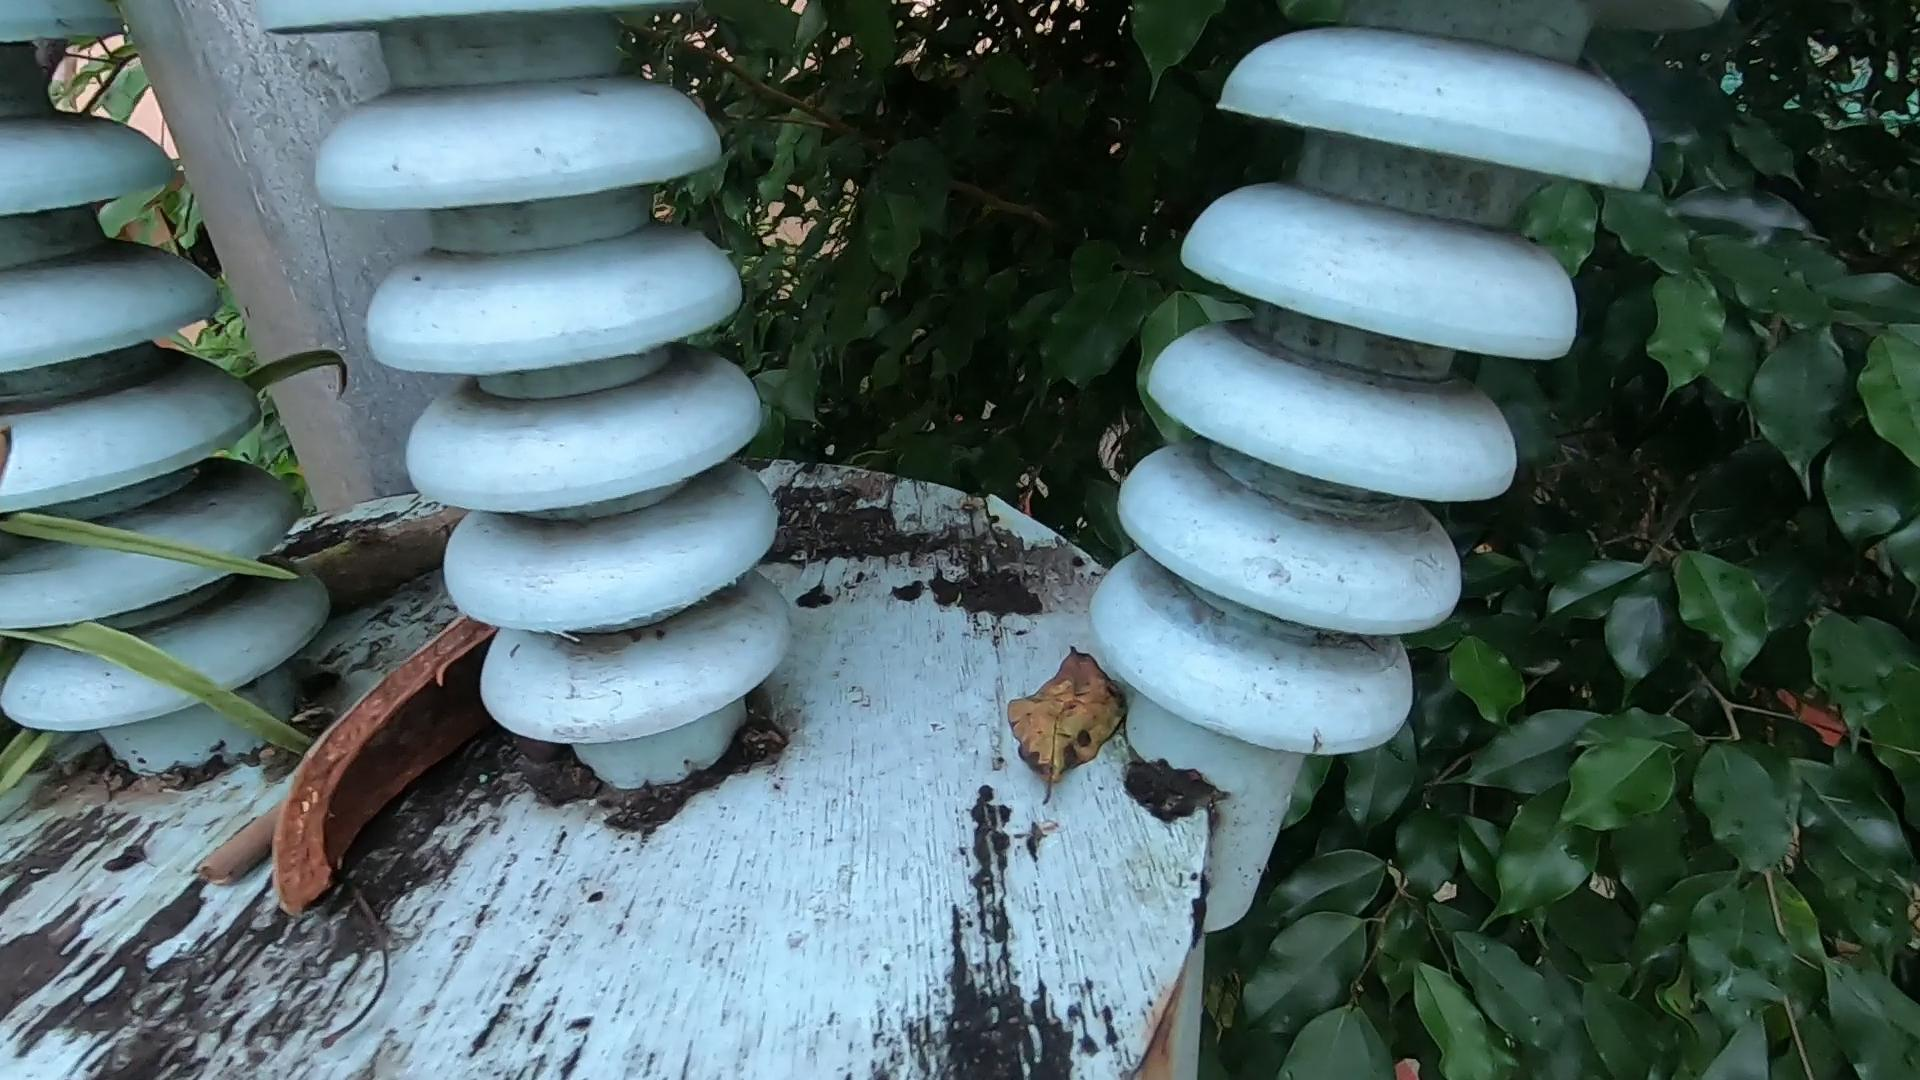branch with leaves: (260, 476, 570, 611)
leaf: (931, 582, 1224, 853)
mahogany fruit: (255, 588, 522, 959)
tree branch: (179, 671, 429, 930)
